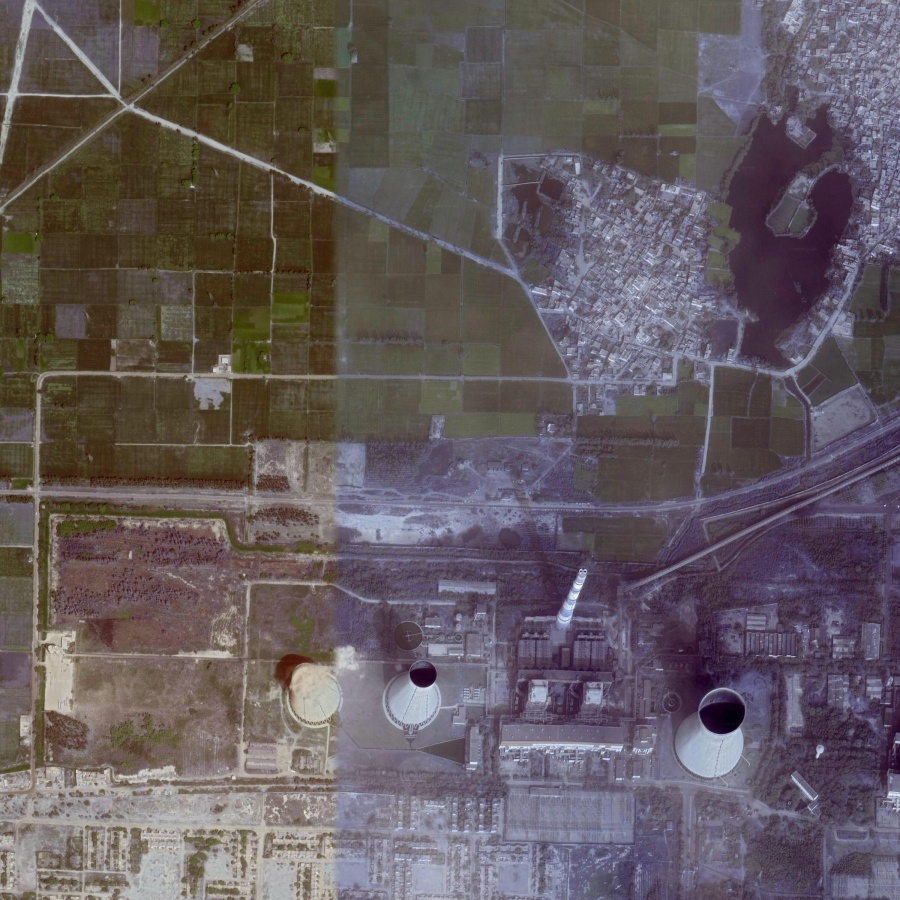PowerPlant: (278, 491, 754, 787)
